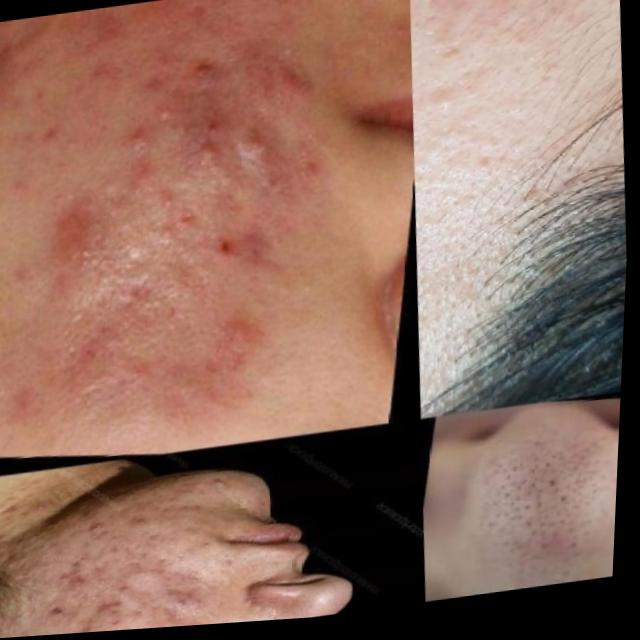Acne: (0, 8, 358, 465), (371, 0, 627, 265), (10, 513, 241, 637), (463, 428, 619, 585)
